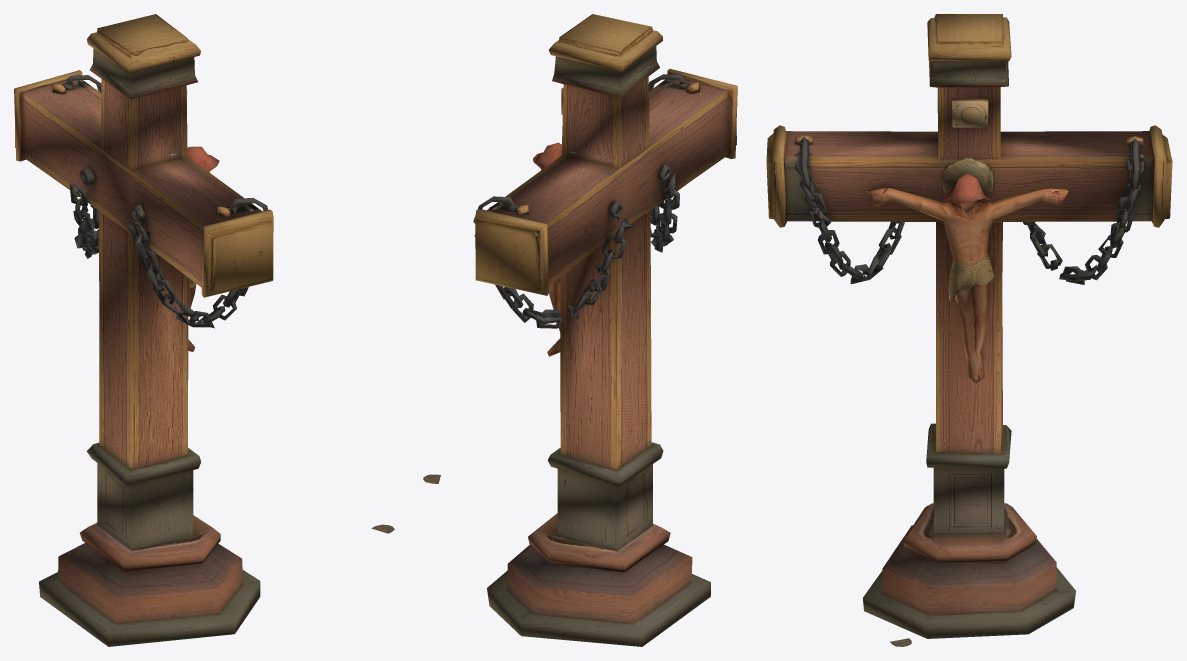
File: tripo_convert_a76fe5a3-30fd-4feb-b105-9ef4b8ea360f.fbx
3 renders of one model, left to right at view 1: azimuth 30°, elevation 25°; view 2: azimuth 150°, elevation 25°; view 3: azimuth 270°, elevation 25°, orthographic.
Parts seen in each view (by area): view 1: tripo_node_a76fe5a3; view 2: tripo_node_a76fe5a3; view 3: tripo_node_a76fe5a3.
Part boxes in pixels (x1,y1,x2,y2): tripo_node_a76fe5a3: (14,14,394,646); tripo_node_a76fe5a3: (423,14,737,646); tripo_node_a76fe5a3: (766,14,1172,646).
Size of the model in its own units: 0.5215 by 0.998 by 0.6504.
Materials: 1 (1 with a texture image).
